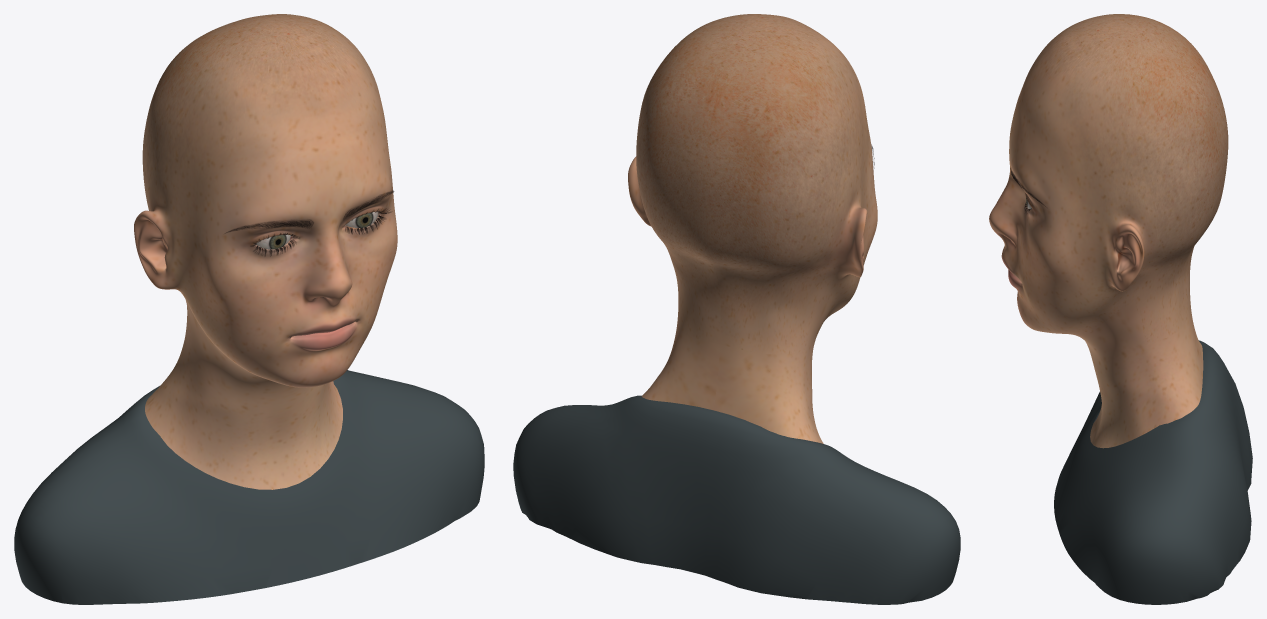
File: head.glb
The picture shows the model from 3 angles, left to right: view 1: azimuth 30°, elevation 25°; view 2: azimuth 150°, elevation 25°; view 3: azimuth 270°, elevation 25°; orthographic projection. The views are drawn at different scales.
Visible parts, largest first — view 1: head_skin, jacket, eyebrows, eyes; view 2: head_skin, jacket; view 3: head_skin, jacket.
Boxes of the visible parts, left/top/right/bottom form: head_skin: left=134, top=14, right=397, bottom=489; jacket: left=14, top=370, right=484, bottom=604; eyebrows: left=225, top=190, right=394, bottom=233; eyes: left=256, top=211, right=378, bottom=249; head_skin: left=628, top=14, right=877, bottom=443; jacket: left=513, top=395, right=960, bottom=604; head_skin: left=989, top=14, right=1228, bottom=448; jacket: left=1054, top=340, right=1252, bottom=604.
Size of the model in its own units: 1.82 by 2.01 by 1.
Materials: 6 (5 with a texture image).
